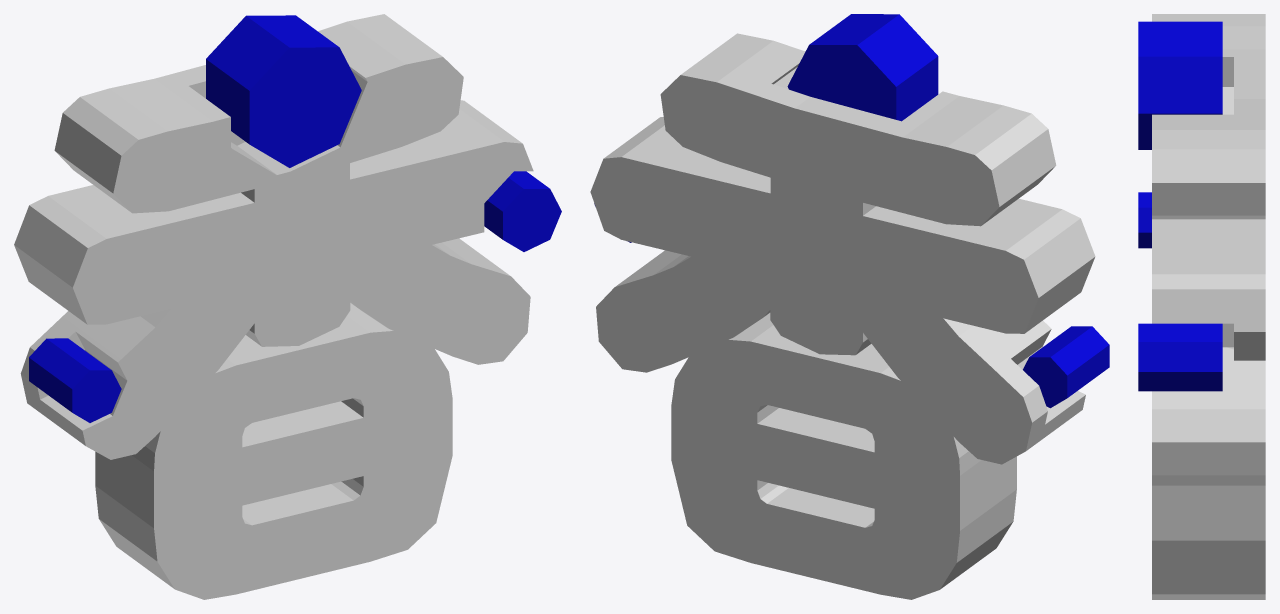
The model's file is Ch_Lite_China_香_01.fbx.
3 renders of one model, left to right at view 1: azimuth 30°, elevation 25°; view 2: azimuth 150°, elevation 25°; view 3: azimuth 270°, elevation 25°, orthographic. The views are drawn at different scales.
Visible parts, largest first — view 1: sphere1; view 2: sphere1; view 3: sphere1.
Boxes of the visible parts, left/top/right/bottom form: sphere1: left=14, top=14, right=561, bottom=599; sphere1: left=590, top=14, right=1109, bottom=599; sphere1: left=1138, top=14, right=1265, bottom=599.
Bounding box in the file's own units: 0.962 × 1.02 × 0.2242.
